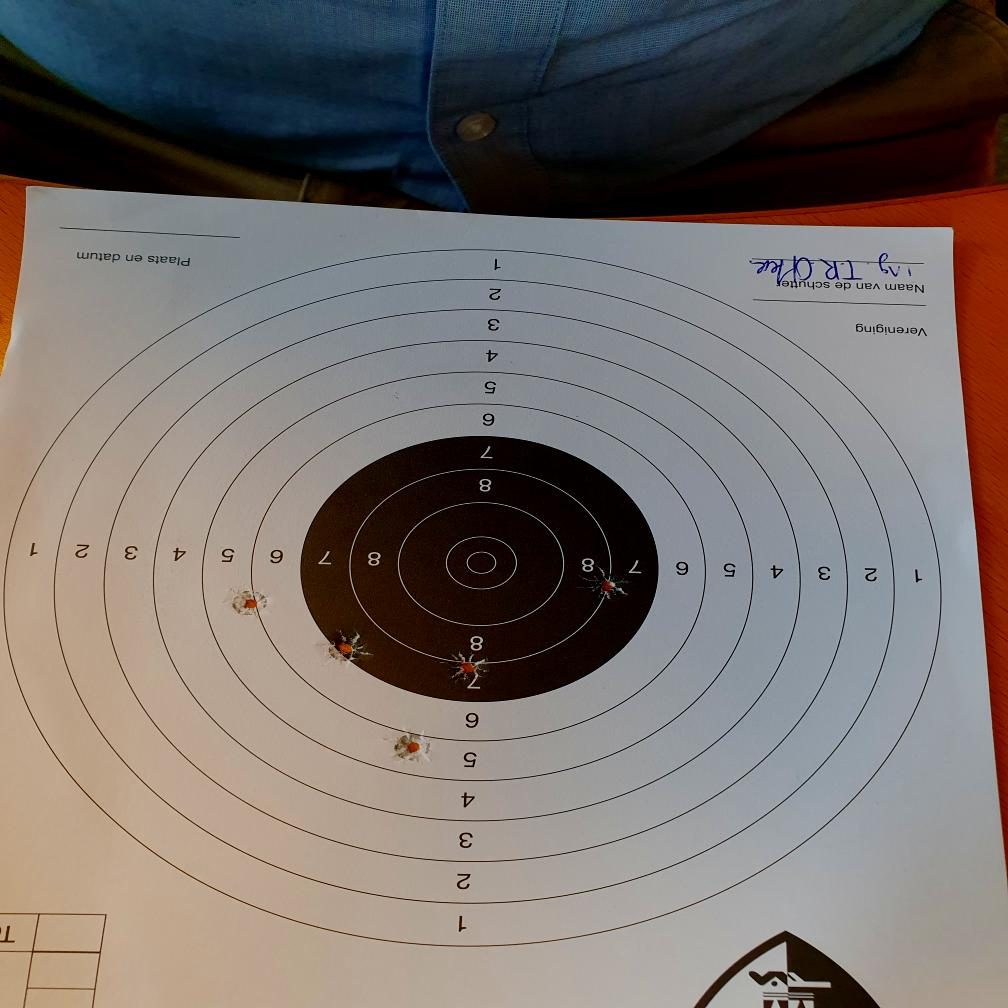6: (386, 727, 436, 766), (224, 586, 272, 618)
7: (318, 631, 372, 668)
8: (578, 566, 632, 601), (443, 649, 494, 682)
Target: (6, 249, 935, 948)
black_contour: (301, 434, 657, 700)
